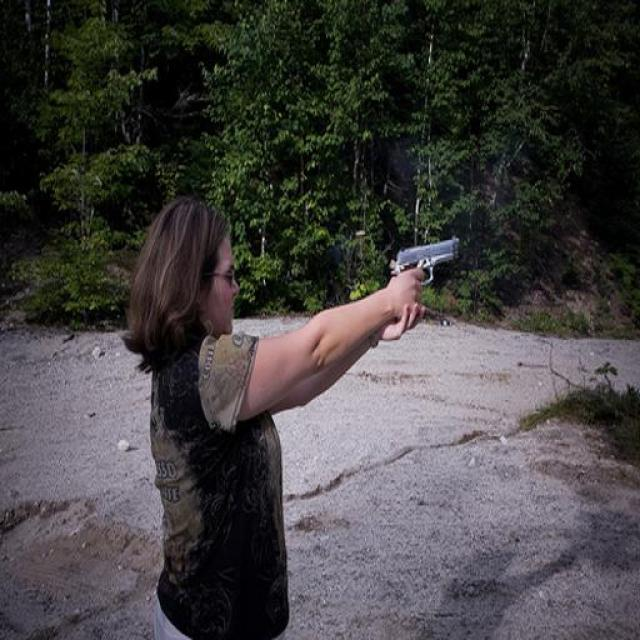pistol: (391, 236, 460, 290)
